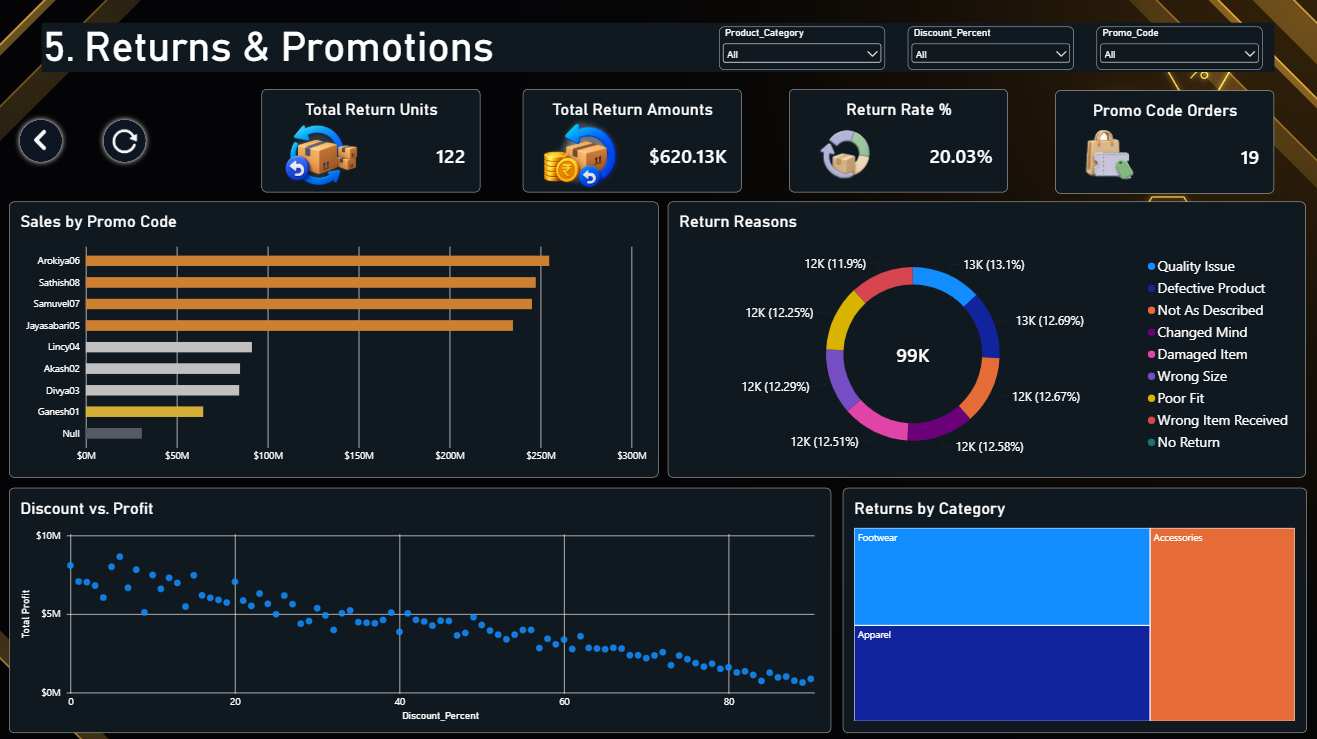

The page's visual inventory and layout, read from the dashboard file:
{"tool":"powerbi","page":{"name":"Returns & Promotions","canvas":[1920,1080],"ordinal":4},"visuals":[{"type":"shape","box":[61.5,34.4,1793.3,71.7],"z":0},{"type":"textbox","title":"5. Returns & Promotions","box":[61.5,34.4,667.8,72.4],"z":1000},{"type":"kpi","title":"Total Return Units","fields":{"Indicator":["Returns and refund measures.Total Return Units"],"TrendLine":["Calendar.Date"]},"box":[381.8,130.3,318.5,150.2],"z":2000},{"type":"kpi","title":"Total Return Amounts","fields":{"Indicator":["Returns and refund measures.Total Return Amount"],"TrendLine":["Calendar.Date"]},"box":[761.9,130.3,318.5,150.2],"z":3000},{"type":"kpi","title":"Return Rate %","fields":{"Indicator":["Returns and refund measures.Return Rate %"],"TrendLine":["Calendar.Date"]},"box":[1149.1,130.3,318.5,150.2],"z":4000},{"type":"kpi","title":"Promo Code Orders","fields":{"Indicator":["Membership and promotion measures.Promo Code Orders"],"TrendLine":["Calendar.Date"]},"box":[1536.4,132.1,318.5,150.2],"z":5000},{"type":"clusteredBarChart","title":"Sales by Promo Code","fields":{"Category":["Project.Promo_Code"],"Y":["Sales and revenue measures.Total Sales Revenue"]},"box":[14.5,295,944.6,401.7],"z":6000},{"type":"scatterChart","title":"Discount vs. Profit","fields":{"X":["Project.Discount_Percent"],"Y":["Sales and revenue measures.Total Profit"]},"box":[14.5,711.2,1196.2,356.5],"z":7000},{"type":"treemap","title":"Returns by Category","fields":{"Group":["Project.Product_Category"],"Values":["Returns and refund measures.Total Return Units"]},"box":[1227,711.2,675,356.5],"z":8000},{"type":"donutChart","title":"Return Reasons","fields":{"Category":["Project.Return_Reason"],"Y":["Returns and refund measures.Total Return Units"]},"box":[973.6,295,928.4,401.7],"z":9000},{"type":"slicer","fields":{"Values":["Project.Product_Category"]},"box":[1047.8,39.8,241.7,63.3],"z":10000},{"type":"slicer","fields":{"Values":["Project.Discount_Percent"]},"box":[1321.1,39.8,241.7,63.3],"z":11000},{"type":"slicer","fields":{"Values":["Project.Promo_Code"]},"box":[1596.1,39.8,241.7,63.3],"z":12000},{"type":"group","id":"g1","title":"Group 1","box":[14.5,159.3,92.7,92.7],"z":13000},{"type":"shape","box":[143,166.5,78.2,78.2],"z":14000,"group":"g2"},{"type":"group","id":"g2","title":"Group 2","box":[143,166.5,78.2,78.2],"z":14000},{"type":"shape","box":[21.7,166.5,78.2,78.2],"z":15000,"group":"g1"},{"type":"image","box":[1536,172,159.3,110.4],"z":16000},{"type":"image","box":[155.7,177.4,52.7,58.2],"z":16000,"group":"g2"},{"type":"image","box":[1150,172,159.3,110.4],"z":17000},{"type":"image","box":[14.5,159.3,92.7,92.7],"z":18000,"group":"g1"},{"type":"image","box":[762,172,159.3,110.4],"z":18000},{"type":"image","box":[382,172,159.3,110.4],"z":19000}]}

Visuals, with their boxes in screenshot pixels (x1, y1, x2, y2), scaled from the page's 1920x1080 canvas onto the 1317x739 screenshot:
shape: [42, 24, 1272, 73]
"5. Returns & Promotions" textbox: [42, 24, 500, 73]
"Total Return Units" kpi: [262, 89, 480, 192]
"Total Return Amounts" kpi: [523, 89, 741, 192]
"Return Rate %" kpi: [788, 89, 1007, 192]
"Promo Code Orders" kpi: [1054, 90, 1272, 193]
"Sales by Promo Code" clusteredBarChart: [10, 202, 658, 477]
"Discount vs. Profit" scatterChart: [10, 487, 830, 731]
"Returns by Category" treemap: [842, 487, 1305, 731]
"Return Reasons" donutChart: [668, 202, 1305, 477]
slicer - Project.Product_Category: [719, 27, 885, 71]
slicer - Project.Discount_Percent: [906, 27, 1072, 71]
slicer - Project.Promo_Code: [1095, 27, 1261, 71]
"Group 1" group: [10, 109, 74, 172]
shape: [98, 114, 152, 167]
"Group 2" group: [98, 114, 152, 167]
shape: [15, 114, 69, 167]
image: [1054, 118, 1163, 193]
image: [107, 121, 143, 161]
image: [789, 118, 898, 193]
image: [10, 109, 74, 172]
image: [523, 118, 632, 193]
image: [262, 118, 371, 193]
